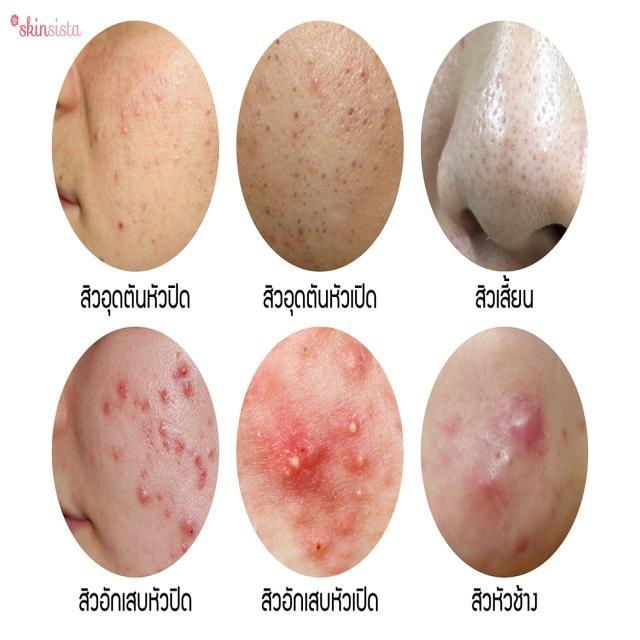Acne: (247, 46, 401, 252), (248, 342, 368, 566), (98, 59, 224, 241), (104, 340, 211, 552), (448, 53, 571, 212), (430, 382, 547, 508)
